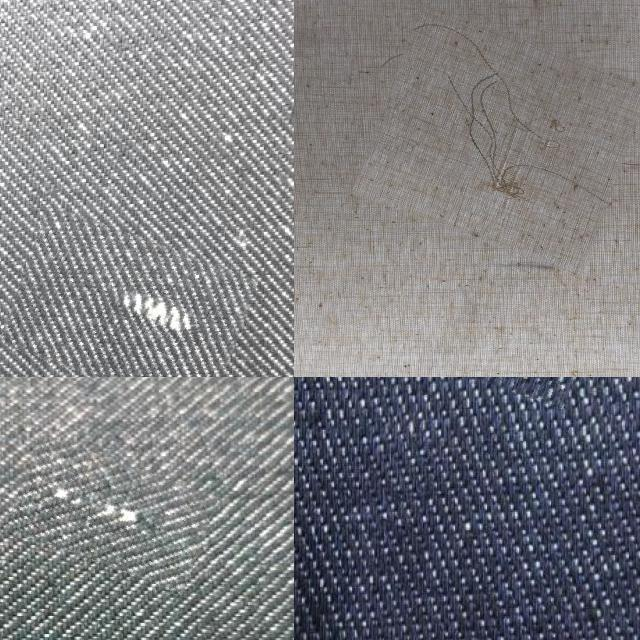stains: (366, 20, 638, 260), (7, 220, 249, 377), (10, 447, 212, 579)
